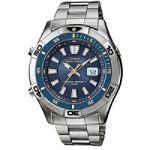watch: (22, 19, 127, 108)
